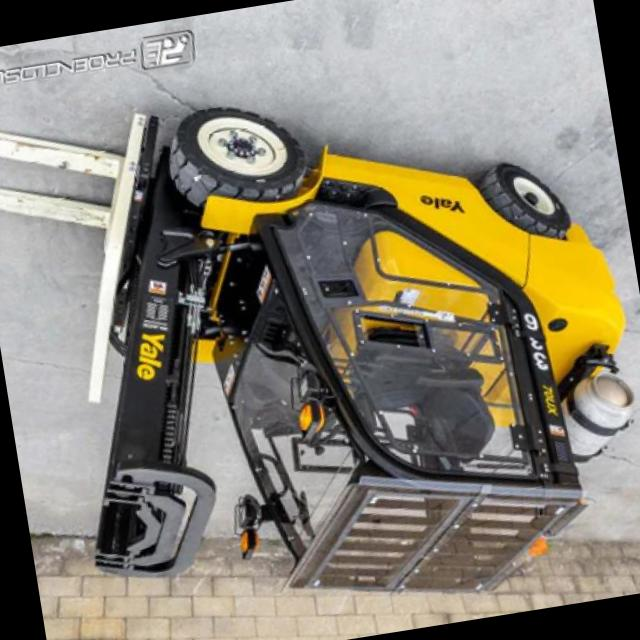forklift: (11, 33, 640, 640)
